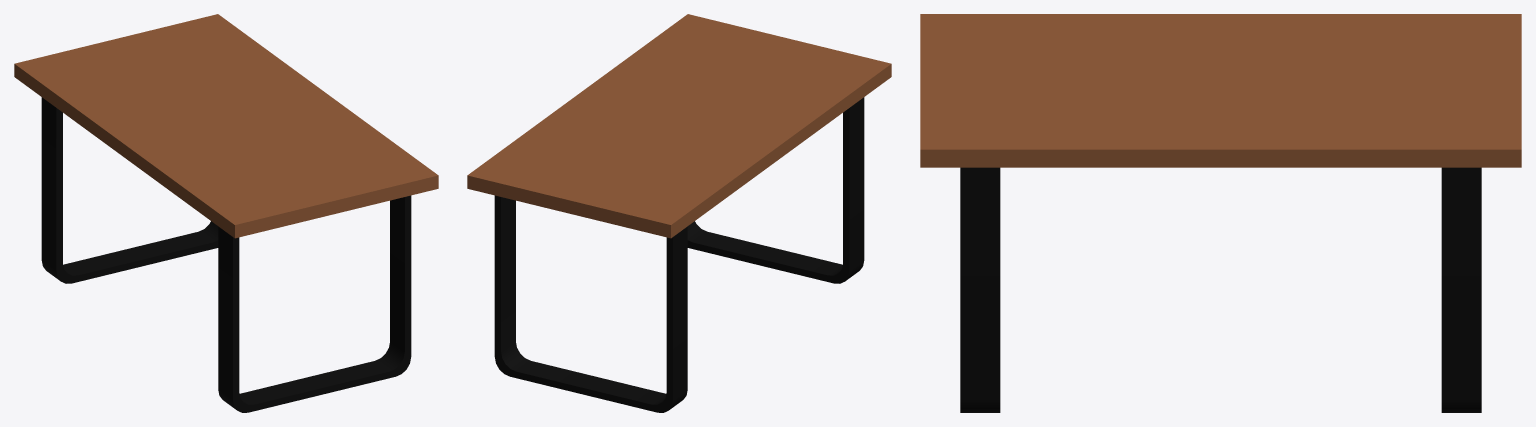
File: Table_Rectangle_01.glb
3 renders of one model, left to right at view 1: azimuth 30°, elevation 25°; view 2: azimuth 150°, elevation 25°; view 3: azimuth 270°, elevation 25°, orthographic. The views are drawn at different scales.
Visible parts, largest first — view 1: Mesh_Table_Rectangle_01; view 2: Mesh_Table_Rectangle_01; view 3: Mesh_Table_Rectangle_01.
Boxes of the visible parts, left/top/right/bottom form: Mesh_Table_Rectangle_01: left=14, top=14, right=438, bottom=412; Mesh_Table_Rectangle_01: left=467, top=14, right=891, bottom=412; Mesh_Table_Rectangle_01: left=920, top=14, right=1521, bottom=412.
Size of the model in its own units: 0.8 by 0.77 by 1.5.
Materials: 1 (1 with a texture image).
